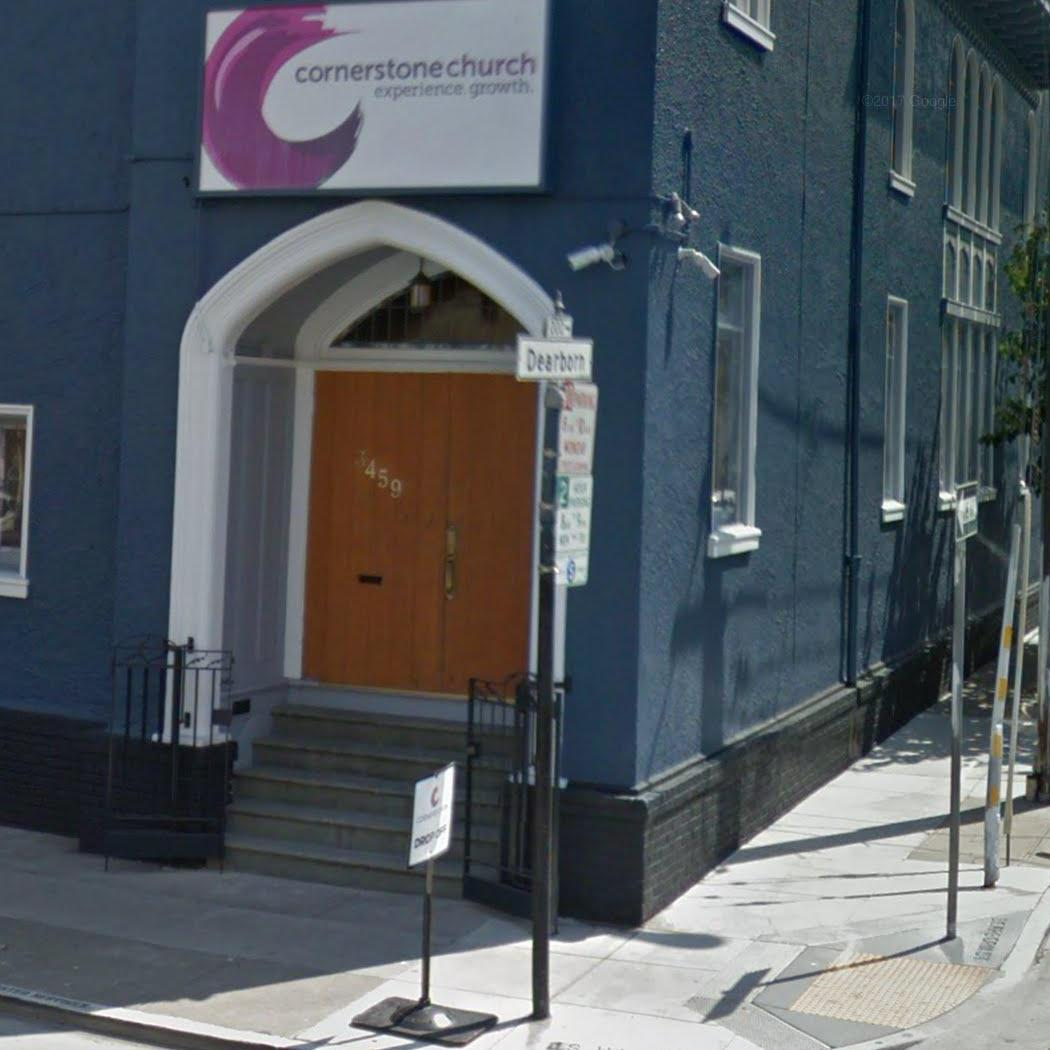2 Hour Parking: (552, 472, 597, 590)
No Parking: (555, 379, 601, 475)
